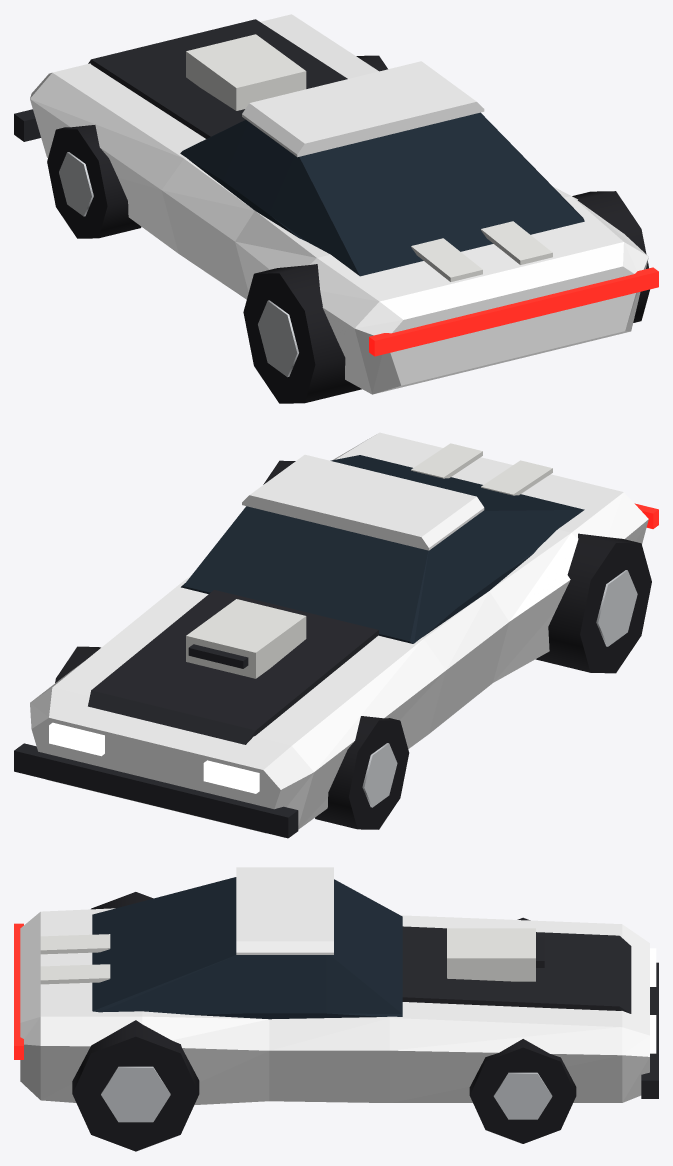
The model's file is muscle.glb.
The picture shows the model from 3 angles, top to bottom: view 1: azimuth 30°, elevation 25°; view 2: azimuth 150°, elevation 25°; view 3: azimuth 270°, elevation 25°; orthographic projection. The views are drawn at different scales.
Parts seen in each view (by area): view 1: object 1, object 2, wheel (×3), object 3, object 4, object 5, object 10, wheel-hub (×2), object 7, object 8, object 9; view 2: object 1, object 2, object 4, wheel (×2), object 3, object 9, object 5, wheel-hub (×2), object 7, object 8, object 19, object 20 (+1 smaller); view 3: object 1, object 2, wheel (×3), object 4, object 3, wheel-hub (×2), object 5, object 7, object 8, object 9, object 10.
Part boxes in pixels (left/top/right/bottom): object 1: left=30, top=14, right=648, bottom=394; object 2: left=180, top=112, right=584, bottom=276; wheel (×3): left=47, top=125, right=649, bottom=403; object 3: left=242, top=61, right=484, bottom=157; object 4: left=88, top=19, right=347, bottom=138; object 5: left=186, top=34, right=306, bottom=110; object 10: left=369, top=267, right=658, bottom=356; wheel-hub (×2): left=59, top=152, right=298, bottom=377; object 7: left=411, top=238, right=482, bottom=281; object 8: left=481, top=221, right=552, bottom=264; object 9: left=14, top=109, right=40, bottom=141; object 1: left=30, top=432, right=648, bottom=833; object 2: left=181, top=455, right=584, bottom=643; object 4: left=88, top=590, right=378, bottom=744; wheel (×2): left=315, top=533, right=651, bottom=829; object 3: left=242, top=454, right=484, bottom=550; object 9: left=14, top=743, right=298, bottom=838; object 5: left=186, top=599, right=306, bottom=678; wheel-hub (×2): left=362, top=570, right=637, bottom=807; object 7: left=481, top=460, right=552, bottom=495; object 8: left=411, top=443, right=482, bottom=478; object 19: left=203, top=760, right=259, bottom=793; object 20: left=49, top=722, right=104, bottom=756; object 1: left=20, top=908, right=649, bottom=1104; object 2: left=92, top=877, right=402, bottom=1019; wheel (×3): left=72, top=892, right=576, bottom=1151; object 4: left=402, top=926, right=631, bottom=1013; object 3: left=236, top=867, right=333, bottom=954; wheel-hub (×2): left=101, top=1066, right=552, bottom=1122; object 5: left=447, top=928, right=535, bottom=981; object 7: left=40, top=934, right=110, bottom=954; object 8: left=40, top=964, right=110, bottom=984; object 9: left=641, top=962, right=658, bottom=1098; object 10: left=14, top=923, right=23, bottom=1059.
Size of the model in its own units: 2.73 by 1.52 by 5.08.
